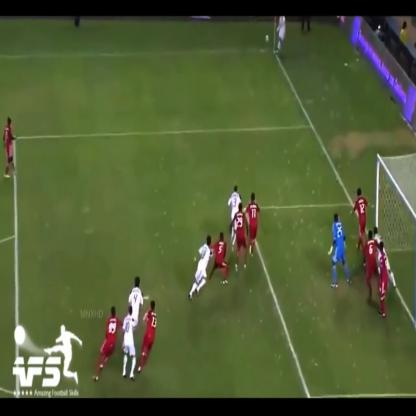corner kick: (256, 1, 303, 105)
